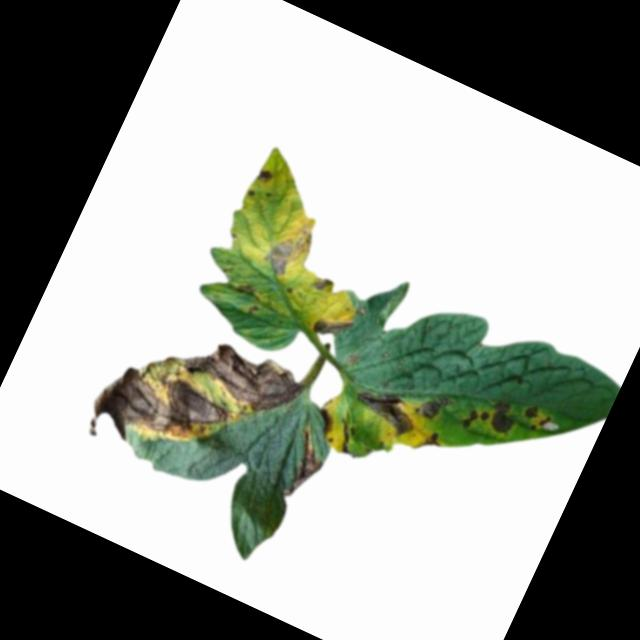Early_blight: (79, 353, 244, 490), (157, 317, 310, 433), (346, 380, 423, 443), (276, 427, 333, 505), (260, 218, 318, 286), (483, 395, 525, 440), (309, 307, 355, 348), (411, 387, 452, 429), (519, 402, 556, 438), (413, 425, 449, 462), (309, 404, 341, 438), (459, 403, 491, 436), (233, 277, 262, 303), (253, 163, 280, 190), (310, 275, 335, 297)
